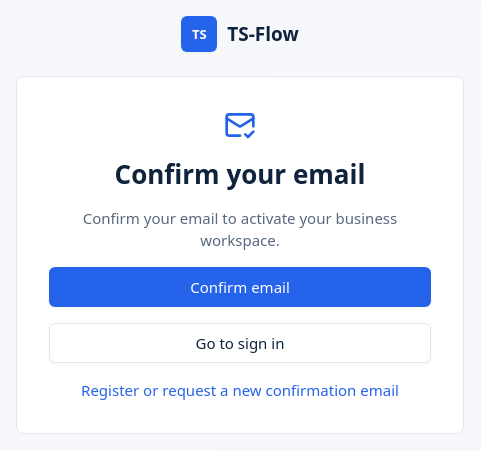
Test: manual signup confirmation › shows provisioning failure without loading membership or entering the workspace
Click the button "Confirm email" at (240, 287), box x1=49 y1=267 x2=431 y2=307
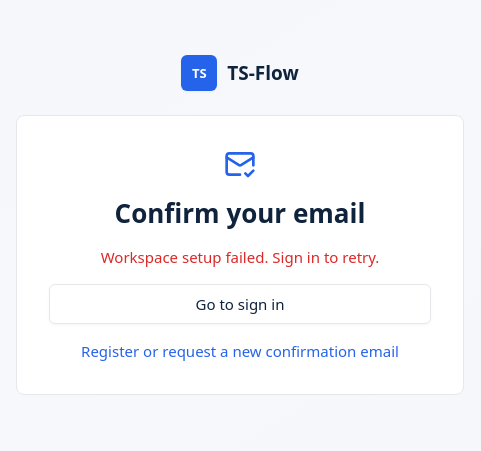
Expected: the message "Workspace setup failed. Sign in to retry." is shown, x1=101 y1=247 x2=379 y2=267
